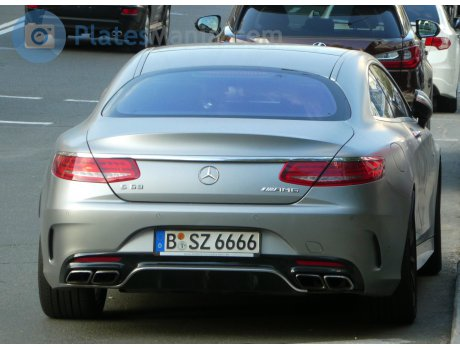License Plates: (161, 230, 262, 247)
